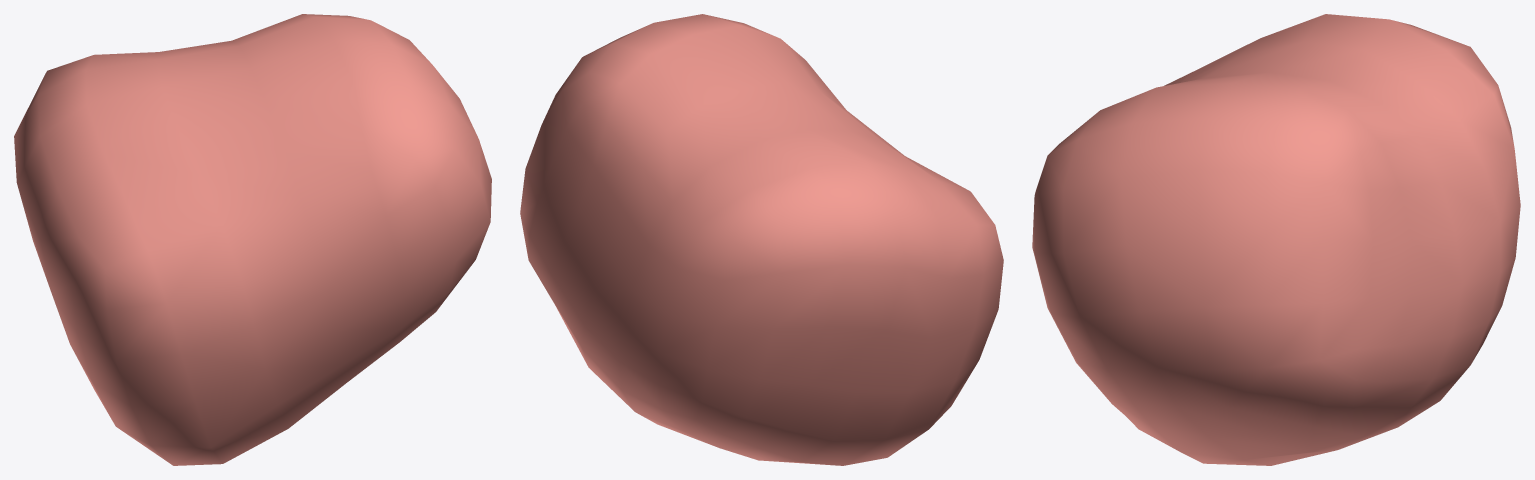
File: mixamo_humanoid_surface_leftHandThumb1.fbx
3 renders of one model, left to right at view 1: azimuth 30°, elevation 25°; view 2: azimuth 150°, elevation 25°; view 3: azimuth 270°, elevation 25°, orthographic. The views are drawn at different scales.
Parts seen in each view (by area): view 1: surface_LeftHandThumb1; view 2: surface_LeftHandThumb1; view 3: surface_LeftHandThumb1.
Part boxes in pixels (box(x1,y1,x2,y2)): surface_LeftHandThumb1: box(14, 14, 491, 465); surface_LeftHandThumb1: box(520, 14, 1003, 465); surface_LeftHandThumb1: box(1032, 14, 1520, 465).
Bounding box in the file's own units: 4.39 × 3.86 × 3.89.
